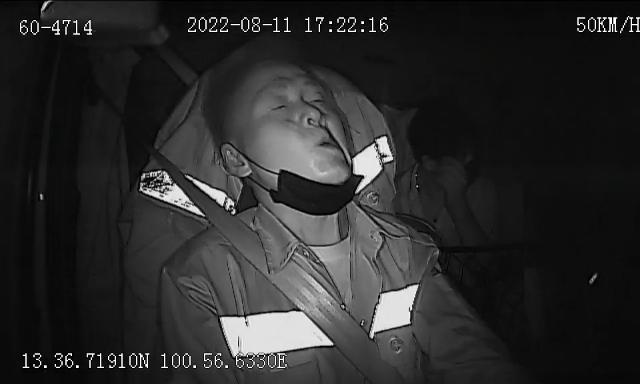Seatbelt: (146, 137, 414, 384)
